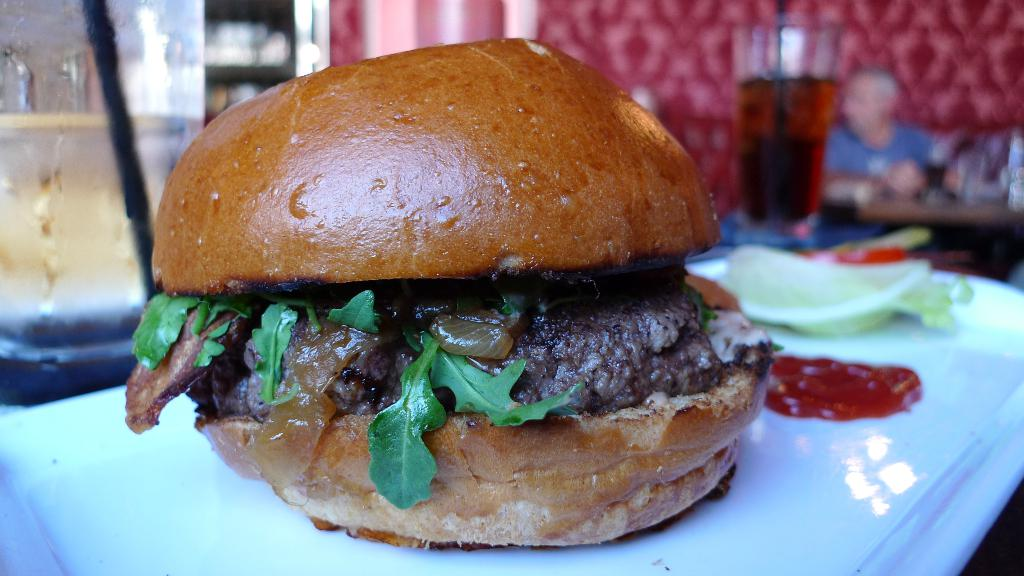Hamburger: (122, 38, 781, 552)
